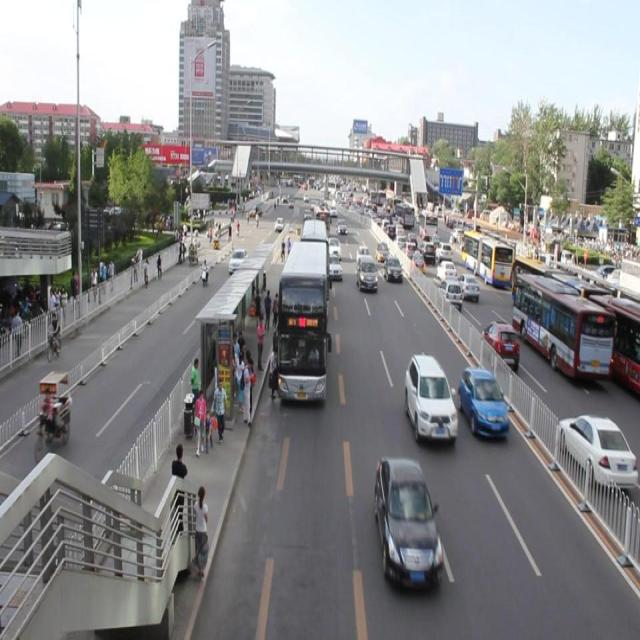car: (373, 455, 442, 593), (403, 352, 458, 448), (458, 366, 508, 440), (356, 260, 376, 292), (382, 254, 402, 284), (325, 252, 342, 281), (356, 246, 373, 268), (326, 236, 340, 262), (374, 242, 389, 262)
van: (278, 238, 326, 404), (298, 218, 330, 321)
